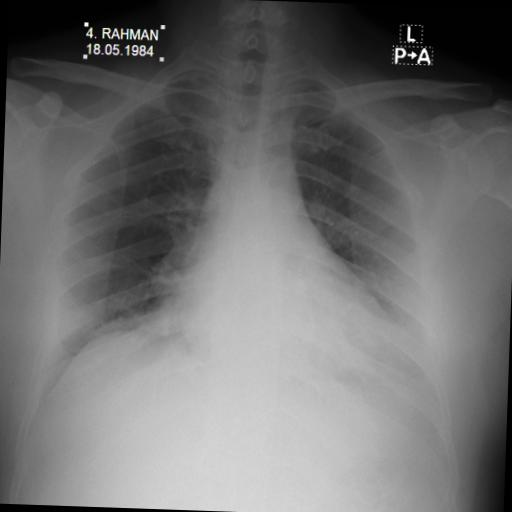kardiomegali: (28, 23, 469, 436)
